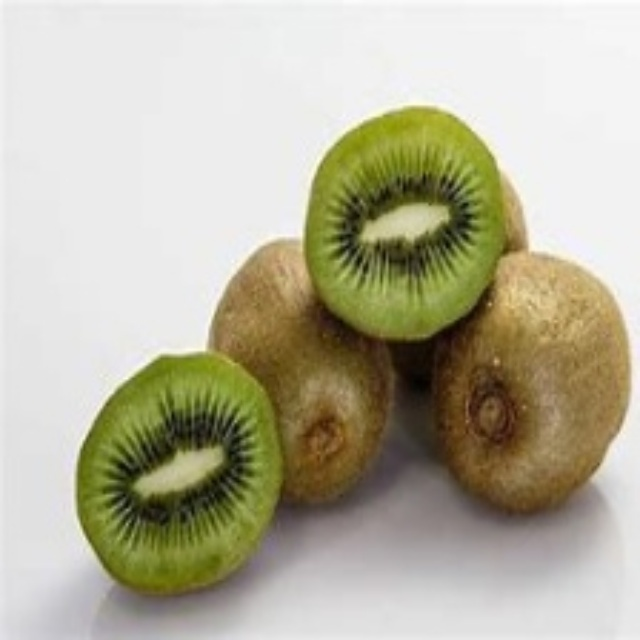kiwi: (206, 242, 393, 511), (82, 341, 283, 583), (450, 245, 639, 499), (300, 108, 502, 344)
